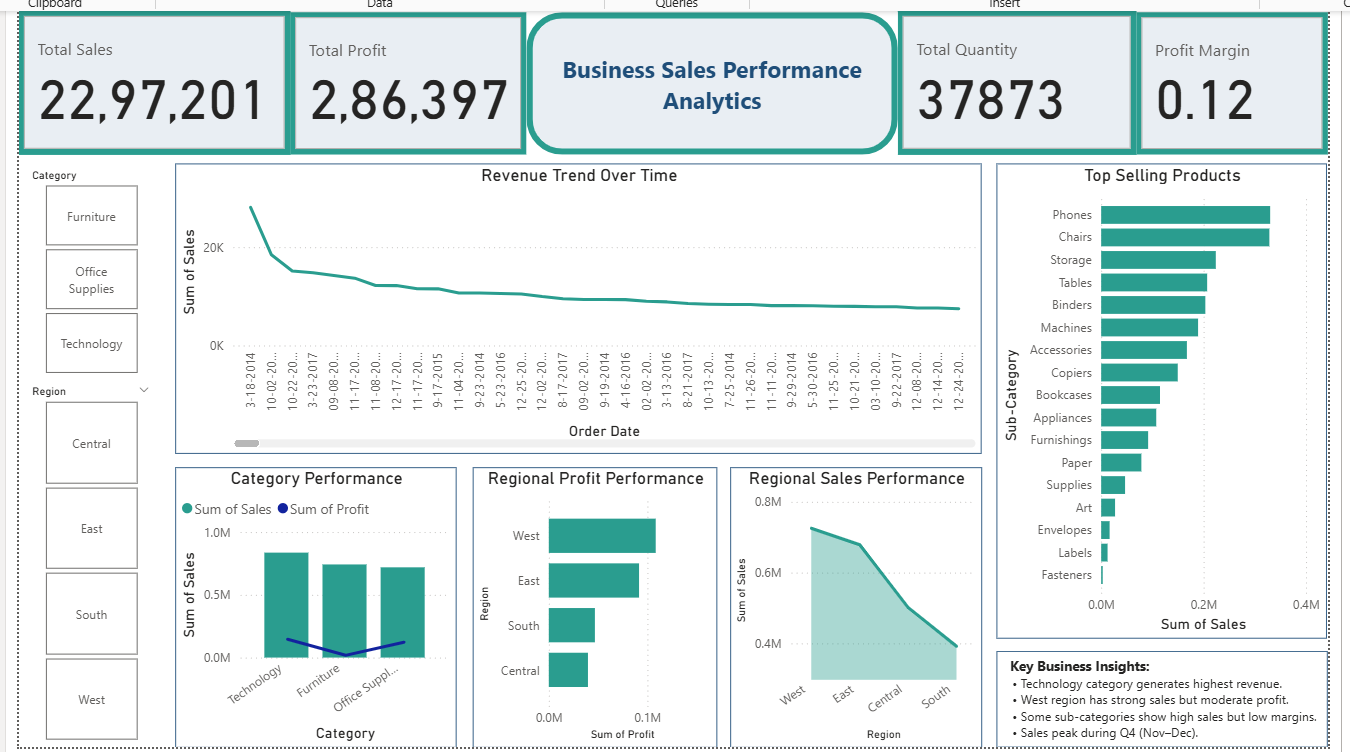

The page's visual inventory and layout, read from the dashboard file:
{"tool":"powerbi","page":{"name":"Page 1","canvas":[1280,720],"ordinal":0},"visuals":[{"type":"cardVisual","fields":{"Data":["all measures (2).Total Sales"]},"box":[0,0,265.4,140.6],"z":0},{"type":"cardVisual","fields":{"Data":["all measures (2).Total Profit"]},"box":[265.4,1.2,231.1,139.4],"z":1000},{"type":"cardVisual","fields":{"Data":["all measures (2).Total Quantity"]},"box":[859.6,0,233.6,140.6],"z":2000},{"type":"cardVisual","fields":{"Data":["all measures (2).Profit Margin"]},"box":[1093.2,1.2,187.1,139.4],"z":3000},{"type":"lineChart","title":"Revenue Trend Over Time","fields":{"Category":["Sample - Superstore.Order Date"],"Y":["Sum(Sample - Superstore.Sales)"]},"box":[152.9,148.6,789.2,284.2],"z":4000},{"type":"clusteredBarChart","title":"Top Selling Products","fields":{"Category":["Sample - Superstore.Sub-Category"],"Y":["Sum(Sample - Superstore.Sales)"]},"box":[956.5,148.6,323.2,464.6],"z":5000},{"type":"areaChart","title":"Regional Sales Performance","fields":{"Category":["Sample - Superstore.Region"],"Y":["Sum(Sample - Superstore.Sales)"]},"box":[695.4,445.8,246.7,274.1],"z":6000},{"type":"barChart","title":"Regional Profit Performance","fields":{"Category":["Sample - Superstore.Region"],"Y":["Sum(Sample - Superstore.Profit)"]},"box":[444.4,445.8,239.5,274.1],"z":7000},{"type":"lineStackedColumnComboChart","title":"Category Performance ","fields":{"Y":["Sum(Sample - Superstore.Sales)"],"Y2":["Sum(Sample - Superstore.Profit)"],"Category":["Sample - Superstore.Category"]},"box":[152.9,445.8,275.6,274.1],"z":8000},{"type":"slicer","fields":{"Values":["Sample - Superstore.Region"]},"box":[0,360.7,139.9,359.2],"z":9000},{"type":"slicer","fields":{"Values":["Sample - Superstore.Category"]},"box":[0,148.6,139.9,212.1],"z":10000},{"type":"textbox","box":[956.3,626.1,324.1,94.2],"z":11000},{"type":"shape","box":[496.5,1.2,363.2,139.4],"z":11001}]}

Visuals, with their boxes in screenshot pixels (x1, y1, x2, y2):
cardVisual - all measures (2).Total Sales: (11, 7, 284, 152)
cardVisual - all measures (2).Total Profit: (284, 8, 522, 152)
cardVisual - all measures (2).Total Quantity: (896, 7, 1137, 152)
cardVisual - all measures (2).Profit Margin: (1137, 8, 1330, 152)
"Revenue Trend Over Time" lineChart: (168, 160, 981, 453)
"Top Selling Products" clusteredBarChart: (996, 160, 1329, 639)
"Regional Sales Performance" areaChart: (727, 466, 981, 749)
"Regional Profit Performance" barChart: (468, 466, 715, 749)
"Category Performance " lineStackedColumnComboChart: (168, 466, 452, 749)
slicer - Sample - Superstore.Region: (11, 379, 155, 749)
slicer - Sample - Superstore.Category: (11, 160, 155, 379)
textbox: (996, 652, 1330, 749)
shape: (522, 8, 896, 152)
